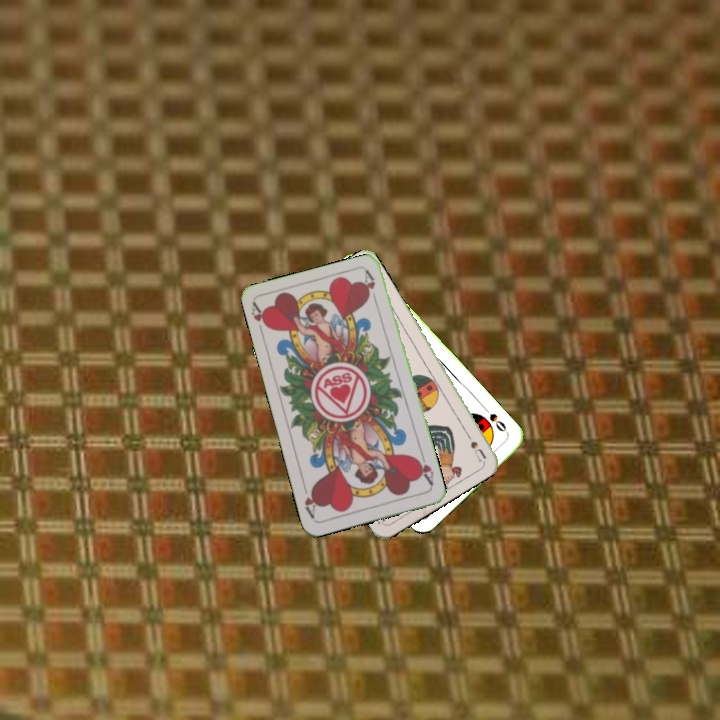HA: (247, 299, 272, 339), (412, 449, 436, 488)
SO: (485, 409, 509, 435)
SU: (460, 425, 488, 464)
